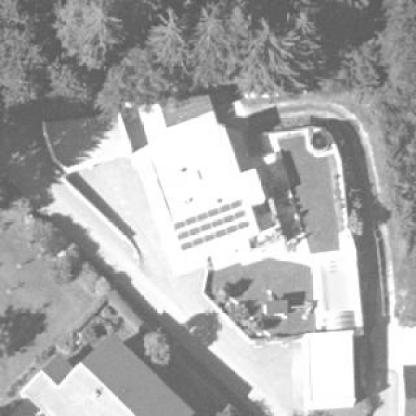solar-pv-panel: (172, 198, 251, 251)
